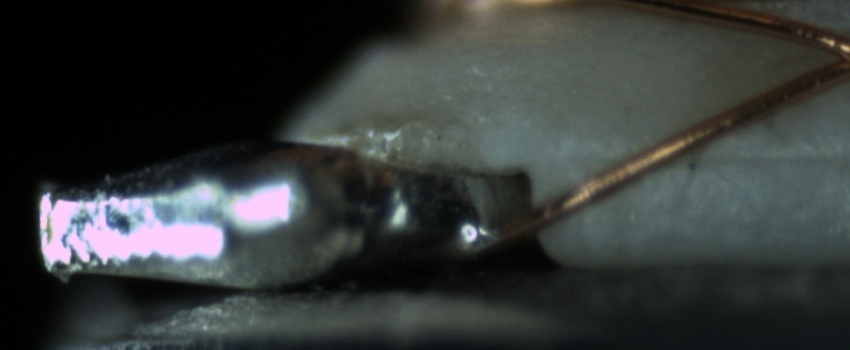CL: (805, 23, 849, 93)
DL: (607, 124, 850, 189)
